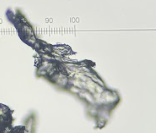microplastic: (5, 8, 121, 131), (1, 102, 35, 133)
